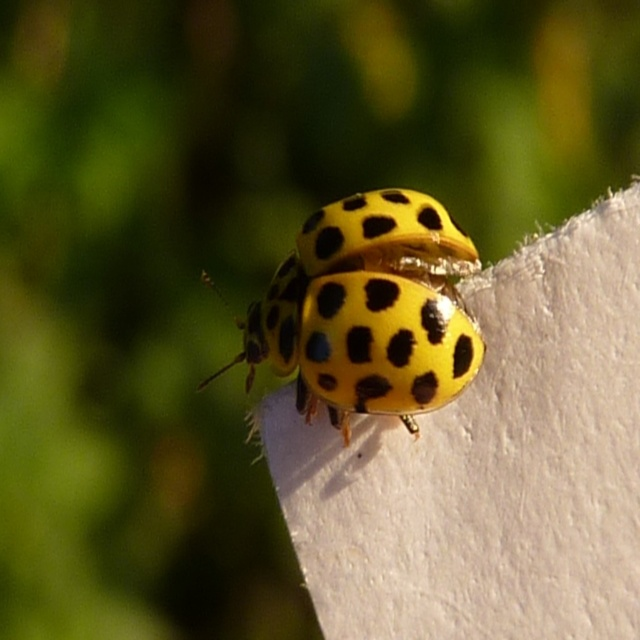Ladybug: (197, 187, 486, 443)
